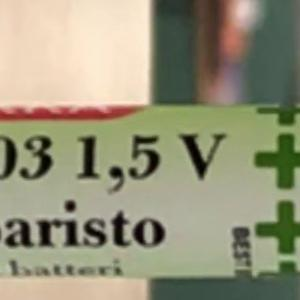keyword: (67, 124, 232, 189)
